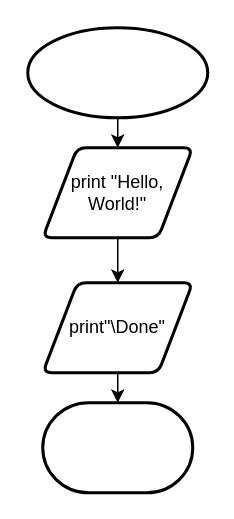
The diagram is 234 pixels wide and 519 high, and some of its shapes have lost their labels. The shapes that lost their labels are listed below. From the top down, each one's centre as x and y in pixels, then its label:
At pixel 117 72: "start".
At pixel 117 447: "stop".
